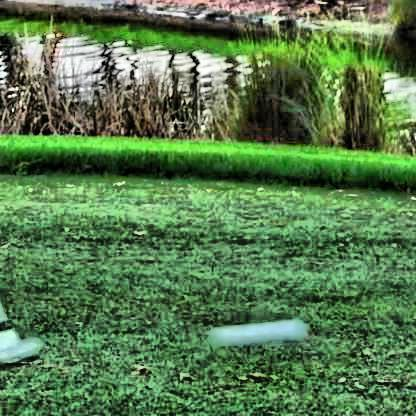golfball: (207, 314, 308, 347)
